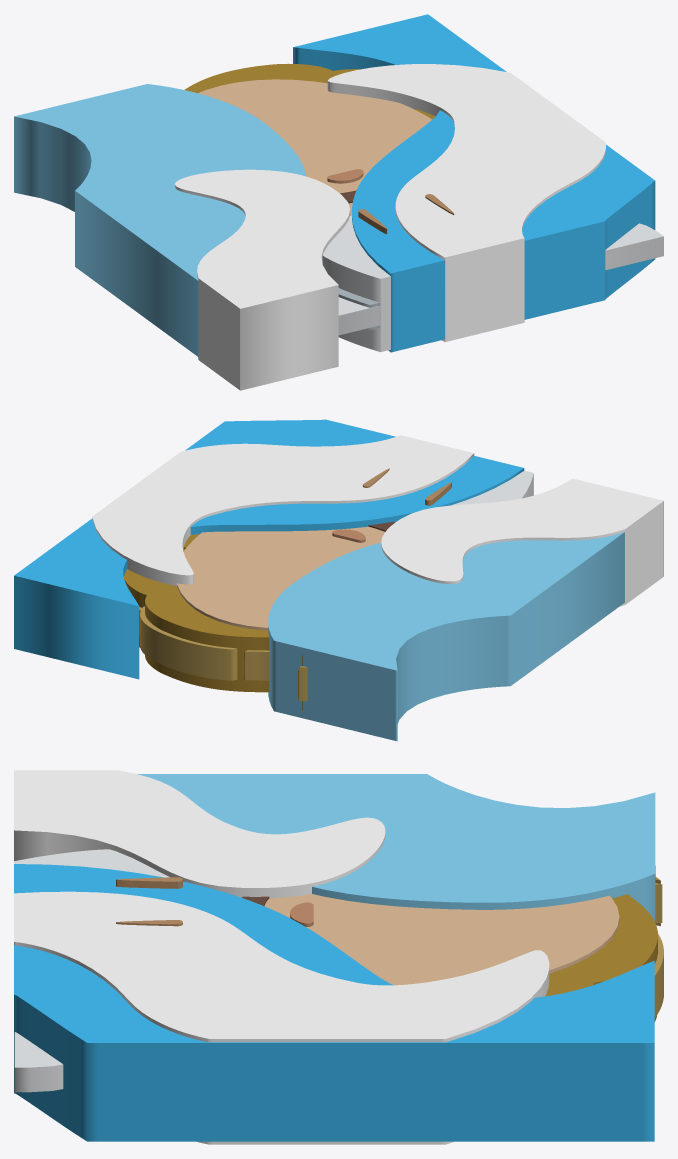
The model's file is emoji_u1f9d6_1f3fc.glb.
3 renders of one model, top to bottom at view 1: azimuth 30°, elevation 25°; view 2: azimuth 150°, elevation 25°; view 3: azimuth 270°, elevation 25°, orthographic. The views are drawn at different scales.
Visible parts, largest first — view 1: emoji_u1f9d6_1f3fc; view 2: emoji_u1f9d6_1f3fc; view 3: emoji_u1f9d6_1f3fc.
Boxes of the visible parts, <box> form: emoji_u1f9d6_1f3fc: <box>14,14,663,390</box>; emoji_u1f9d6_1f3fc: <box>14,419,663,741</box>; emoji_u1f9d6_1f3fc: <box>14,770,663,1144</box>.
Bounding box in the file's own units: 0.033 × 0.0064 × 0.0334.
